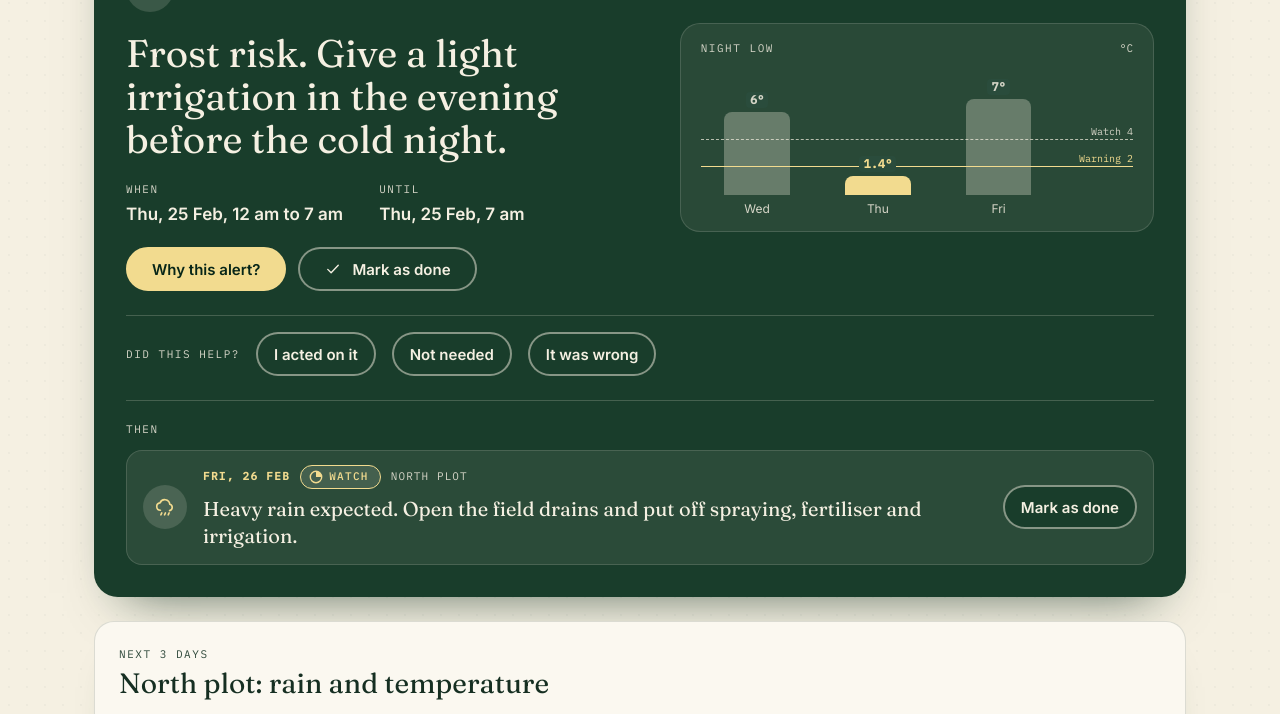
Test: Did this help? › a failure says so, keeps the buttons and remembers nothing
The width and height of the screenshot is (1280, 714).
(page scrolled)
Click the button "I acted on it": {"x": 316, "y": 354} [256,332,376,376]
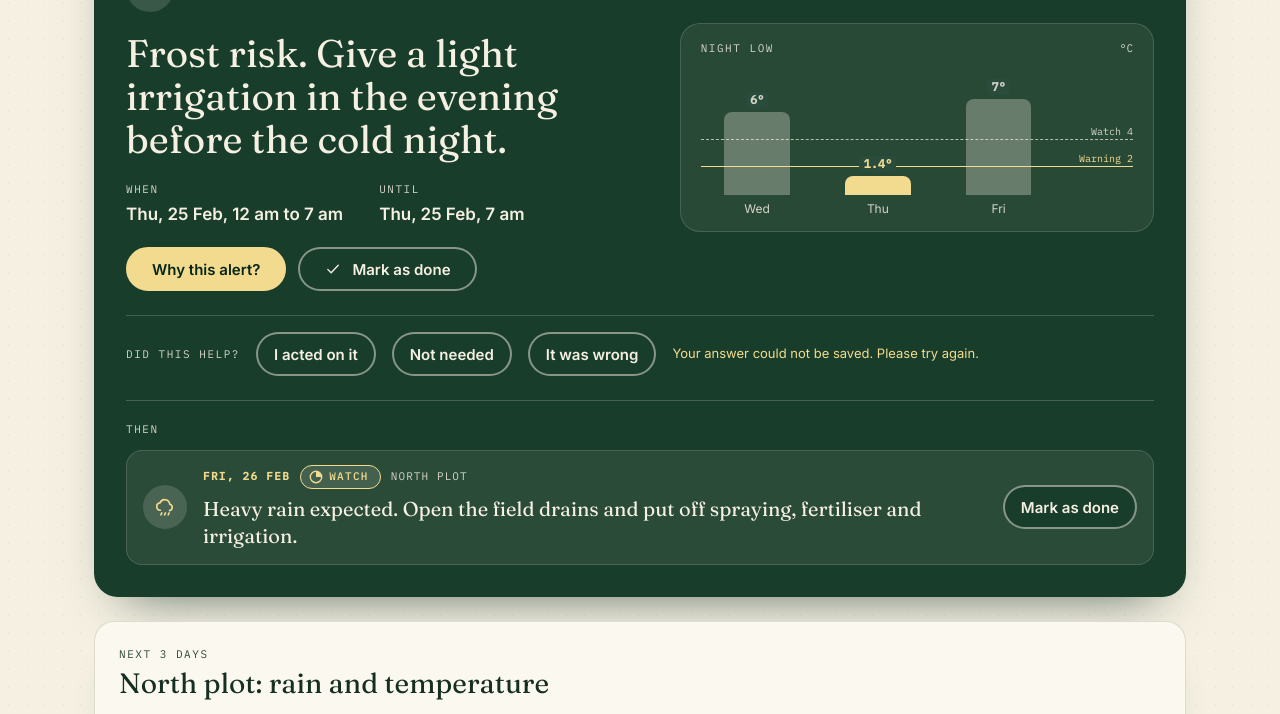
Check: the message reads "Your answer could not be saved. Please try again.", box [672,345,979,361]
